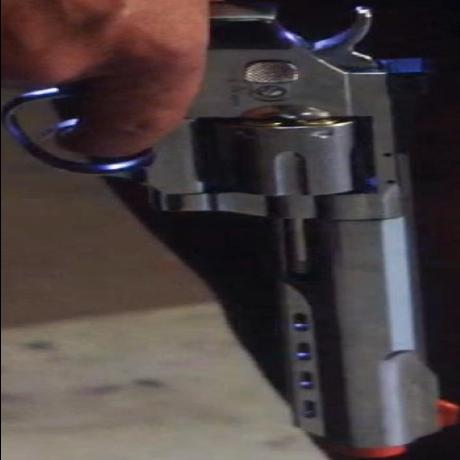weapon: (0, 8, 458, 457)
